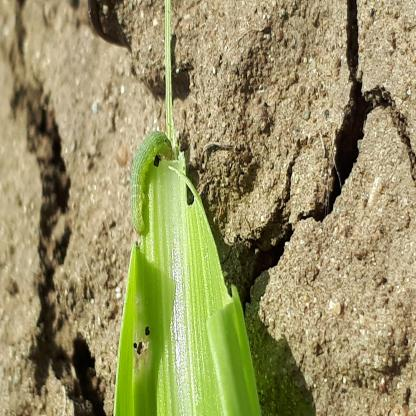armyworm: (104, 236, 159, 313)
